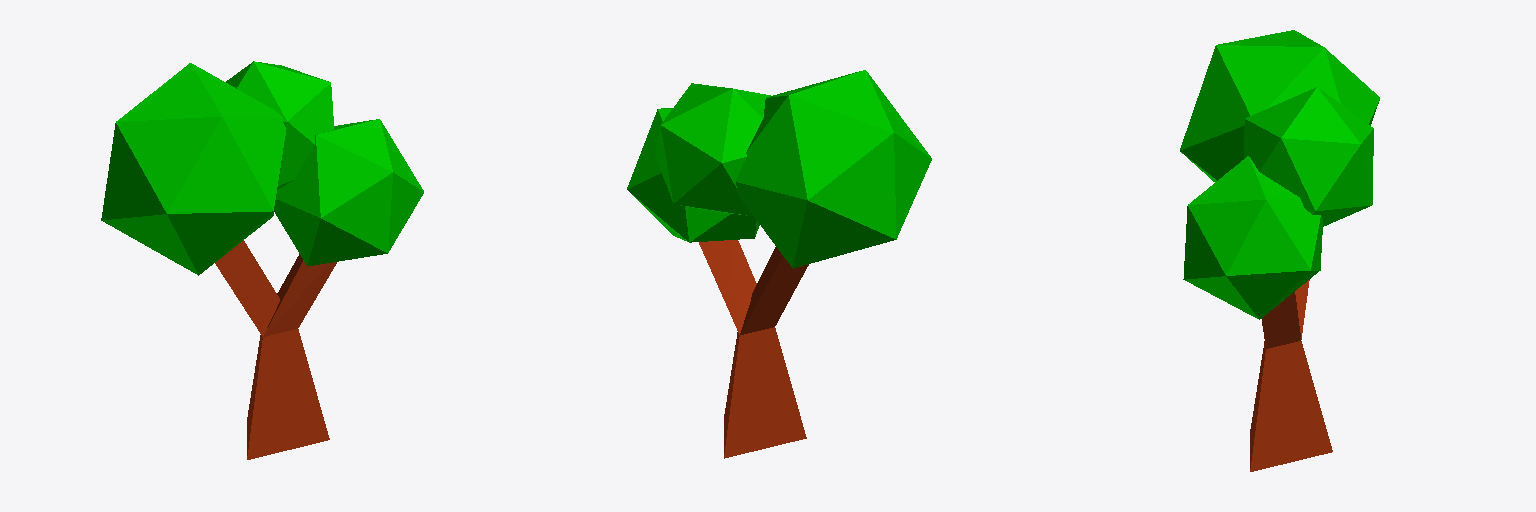
File: tree1.obj
The picture shows the model from 3 angles: view 1: azimuth 30°, elevation 25°; view 2: azimuth 150°, elevation 25°; view 3: azimuth 270°, elevation 25°; orthographic projection.
Visible parts, largest first — view 1: tree.006_Circle.007; view 2: tree.006_Circle.007; view 3: tree.006_Circle.007.
Part boxes in pixels (bbox=[...]): tree.006_Circle.007: bbox=[101, 61, 423, 459]; tree.006_Circle.007: bbox=[627, 70, 931, 458]; tree.006_Circle.007: bbox=[1180, 30, 1379, 471].
Bounding box in the file's own units: 5.91 × 7.48 × 3.63.